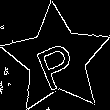P_NW: (30, 29, 83, 90)
